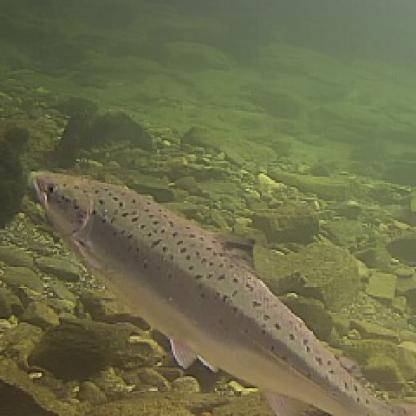salmon: (25, 163, 408, 411)
